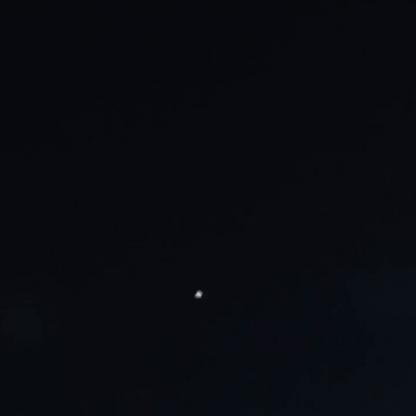ball: (187, 284, 208, 300)
